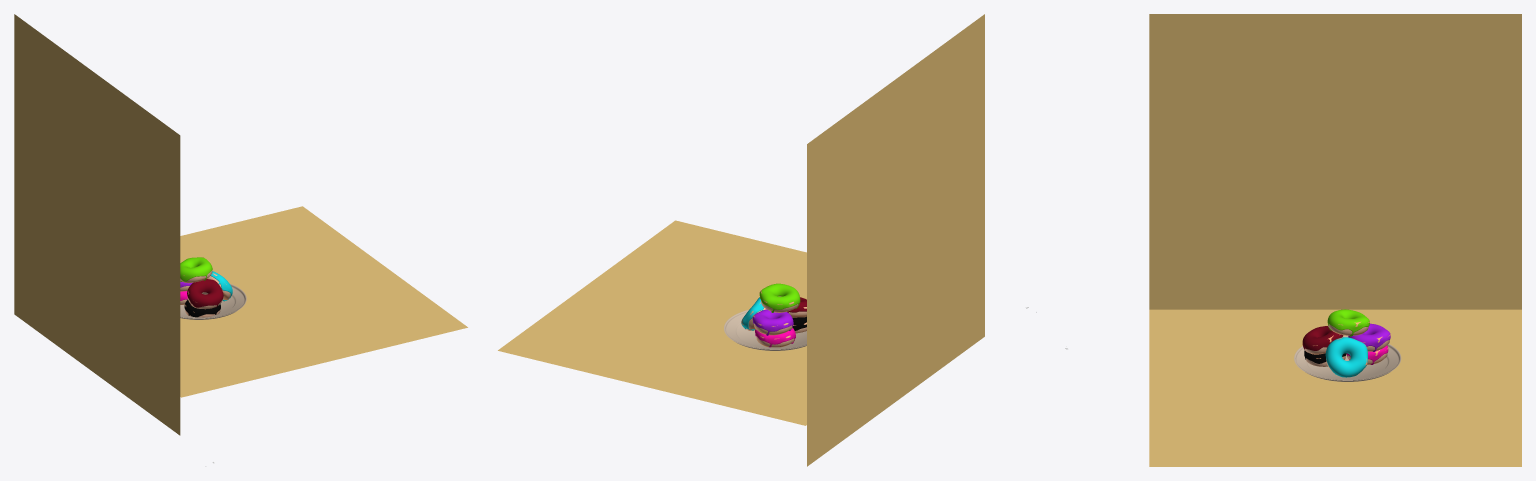
Rendered from donuts_export1.glb.
3 renders of one model, left to right at view 1: azimuth 30°, elevation 25°; view 2: azimuth 150°, elevation 25°; view 3: azimuth 270°, elevation 25°, orthographic. The views are drawn at different scales.
Visible parts, largest first — view 1: Plane.001, Plane, Donut.005, Circle, Donut.011; view 2: Plane.001, Plane, Circle, Donut.011, Donut.009; view 3: Plane.001, Plane, Circle, Donut.007, Donut.011, Donut.005, Donut.009.
Part boxes in pixels (bbox=[...]): Plane.001: bbox=[14, 14, 180, 435]; Plane: bbox=[180, 206, 467, 397]; Donut.005: bbox=[187, 279, 223, 307]; Circle: bbox=[180, 283, 246, 319]; Donut.011: bbox=[180, 257, 212, 281]; Plane.001: bbox=[807, 14, 984, 466]; Plane: bbox=[498, 220, 806, 425]; Circle: bbox=[724, 309, 806, 350]; Donut.011: bbox=[759, 283, 800, 312]; Donut.009: bbox=[752, 309, 793, 335]; Plane.001: bbox=[1149, 14, 1521, 309]; Plane: bbox=[1149, 309, 1521, 466]; Circle: bbox=[1294, 335, 1401, 381]; Donut.007: bbox=[1325, 337, 1367, 377]; Donut.011: bbox=[1327, 309, 1369, 336]; Donut.005: bbox=[1302, 326, 1343, 350]; Donut.009: bbox=[1348, 323, 1390, 351].
Bounding box in the file's own units: 1.17 × 1.12 × 1.37.
Materials: 10 (1 with a texture image).
